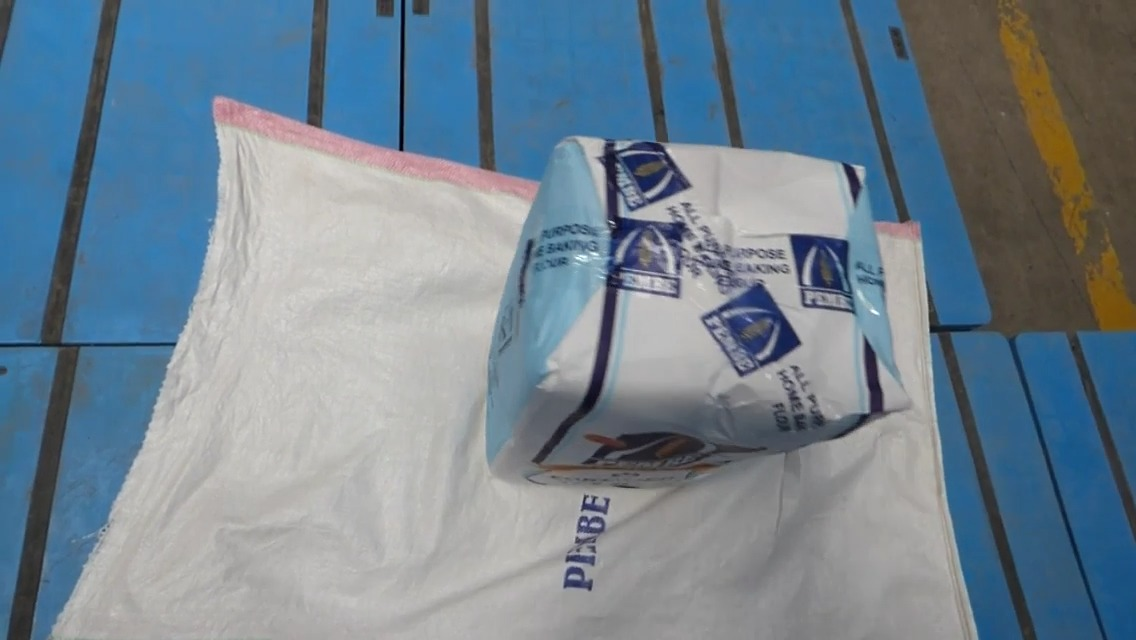wheat_flour_blue_label: (488, 137, 890, 491)
